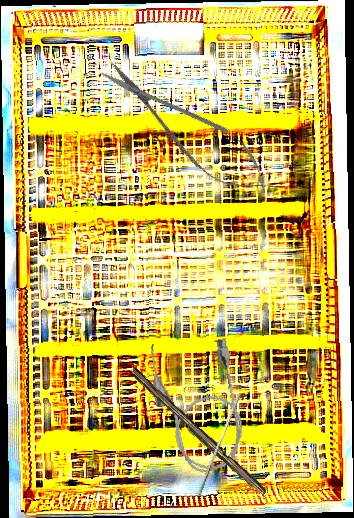Cannula: (143, 328, 253, 480)
Micro Scissor: (88, 46, 282, 209)
Pusher: (196, 391, 242, 499)
Scalpel Handle: (126, 367, 270, 499)
